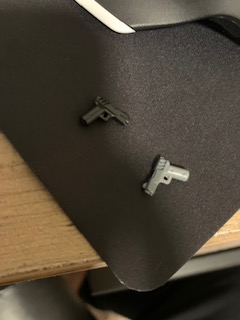pistol: (136, 152, 192, 196), (77, 94, 132, 132)
